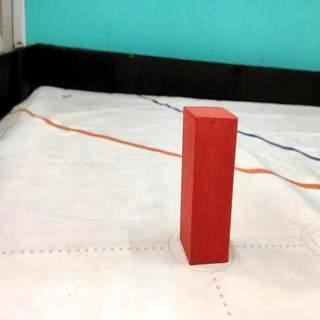redbox: (180, 103, 238, 264)
